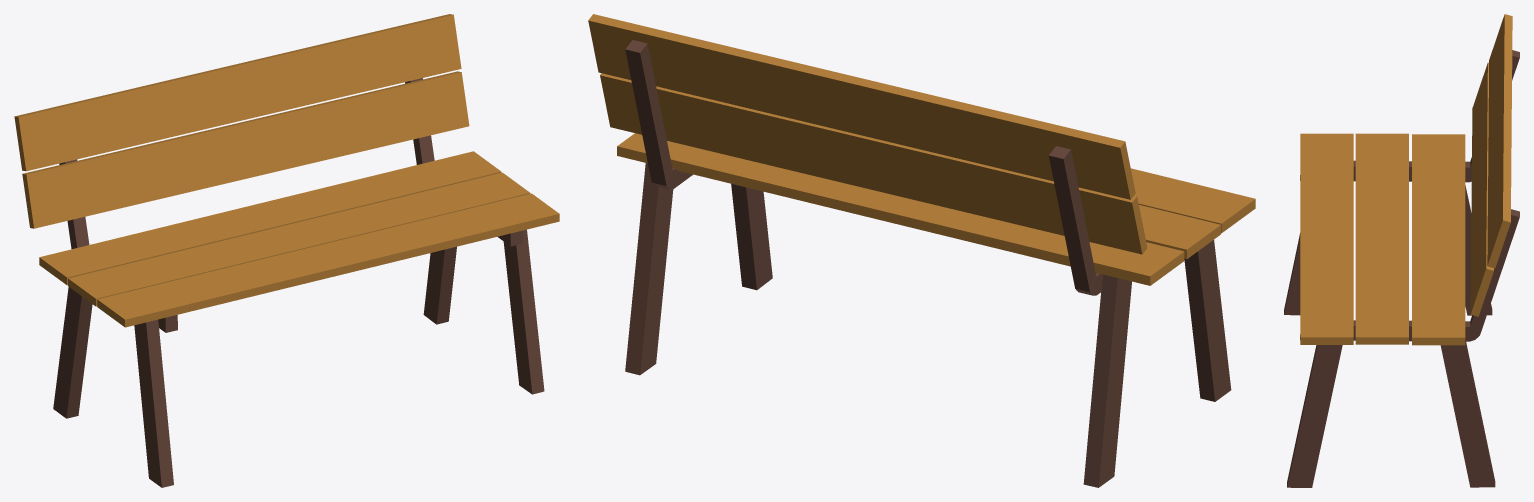
3 views of the same model, side by side, from view 1: azimuth 30°, elevation 25°; view 2: azimuth 150°, elevation 25°; view 3: azimuth 270°, elevation 25° (orthographic). The views are drawn at different scales.
Parts seen in each view (by area): view 1: node_MeshObject1491116864-PolyPaper19; view 2: node_MeshObject1491116864-PolyPaper19; view 3: node_MeshObject1491116864-PolyPaper19.
Part boxes in pixels (x1,y1,x2,y2): node_MeshObject1491116864-PolyPaper19: (14,14,559,487); node_MeshObject1491116864-PolyPaper19: (588,14,1255,487); node_MeshObject1491116864-PolyPaper19: (1284,14,1519,487).
Bounding box in the file's own units: 2.51 × 1.62 × 1.23.
